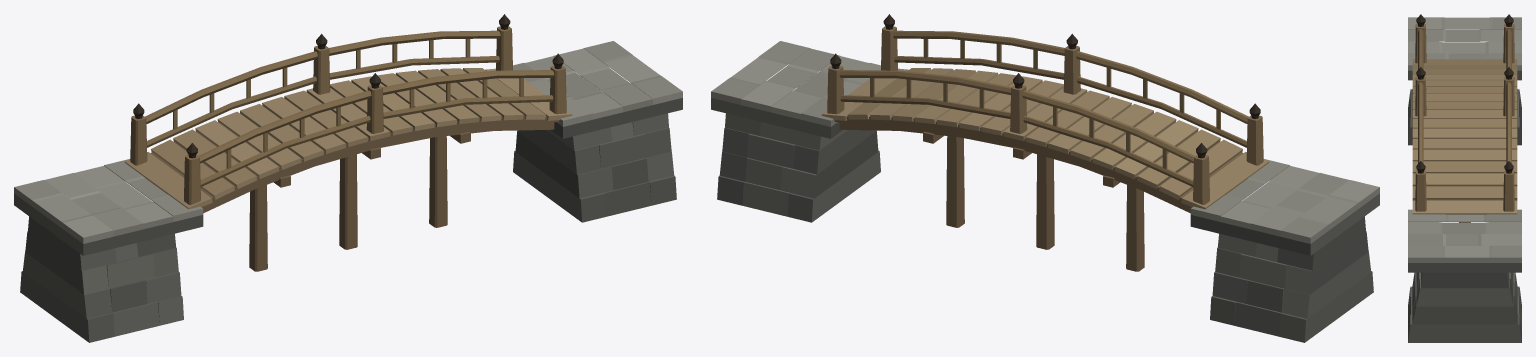
Rendered from moat-bridge-4fbcd9.glb.
3 views of the same model, side by side, from view 1: azimuth 30°, elevation 25°; view 2: azimuth 150°, elevation 25°; view 3: azimuth 270°, elevation 25° (orthographic). The views are drawn at different scales.
Visible parts, largest first — view 1: bridge; view 2: bridge; view 3: bridge.
Boxes of the visible parts, left/top/right/bottom form: bridge: left=14, top=14, right=682, bottom=342; bridge: left=711, top=14, right=1379, bottom=342; bridge: left=1408, top=14, right=1521, bottom=342.
Bounding box in the file's own units: 10 × 3.07 × 2.
